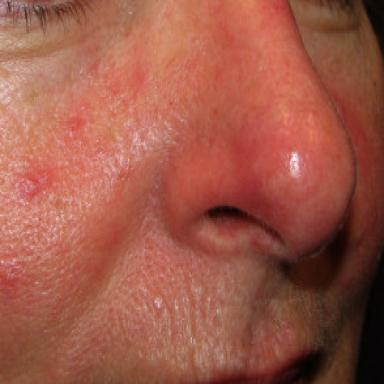acne: (16, 168, 52, 201), (123, 60, 146, 87), (66, 116, 86, 138), (0, 266, 17, 289), (79, 100, 88, 110), (113, 84, 119, 93)
